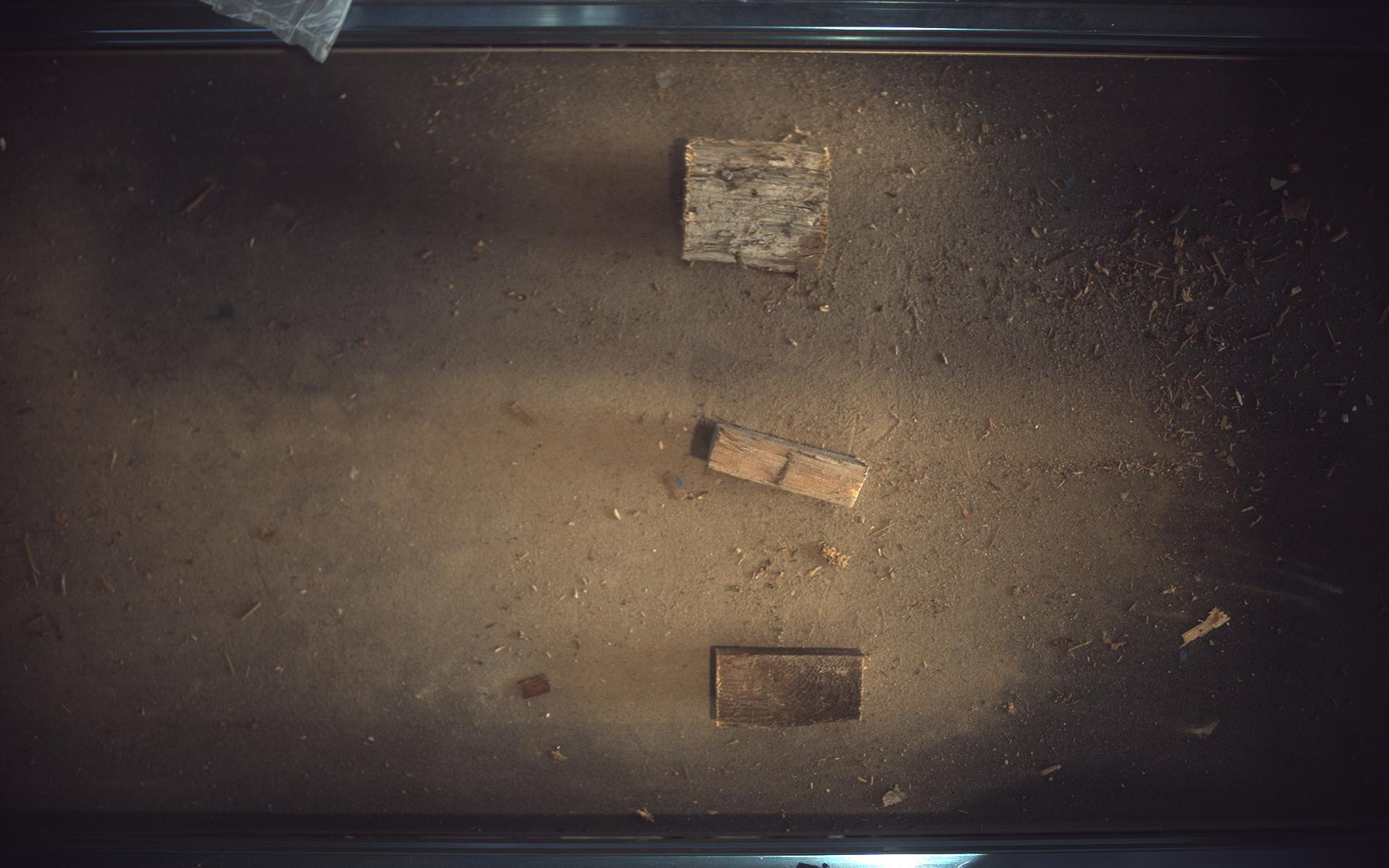wood: (683, 137, 831, 272), (692, 417, 870, 508), (712, 647, 866, 728)
